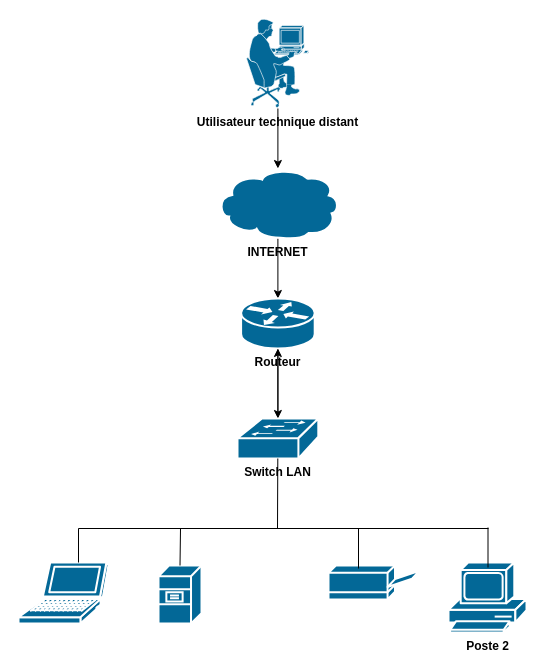
Some shapes in this 544 by 670 pixel diagram are drawn without their labels. The centre of each missing label's shape, as x and y in pixels:
Imprimante: (x=373, y=582)
Poste 1: (x=63, y=592)
Serveur ITSM: (x=179, y=594)
